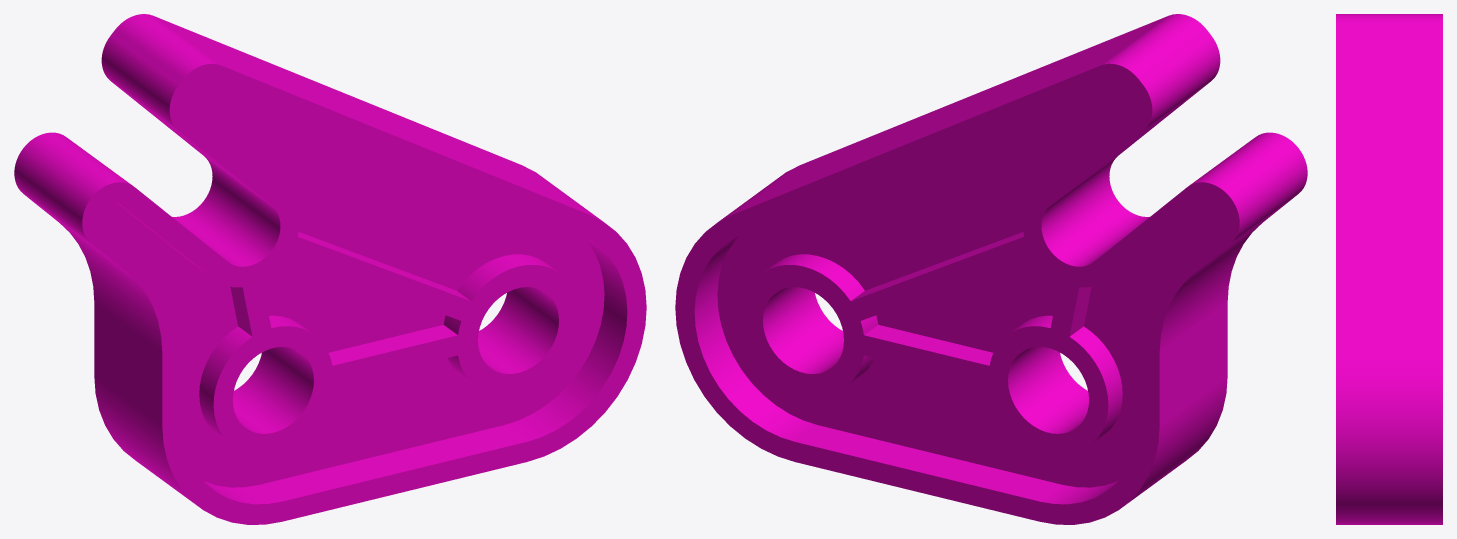
3 renders of one model, left to right at view 1: azimuth 30°, elevation 25°; view 2: azimuth 150°, elevation 25°; view 3: azimuth 270°, elevation 25°, orthographic. The views are drawn at different scales.
Visible parts, largest first — view 1: main_e10098; view 2: main_e10098; view 3: main_e10098.
Part boxes in pixels (bbox=[...]): main_e10098: bbox=[14, 14, 646, 524]; main_e10098: bbox=[675, 14, 1307, 524]; main_e10098: bbox=[1336, 14, 1442, 524].
Size of the model in its own units: 29.25 by 23.57 by 6.1.
